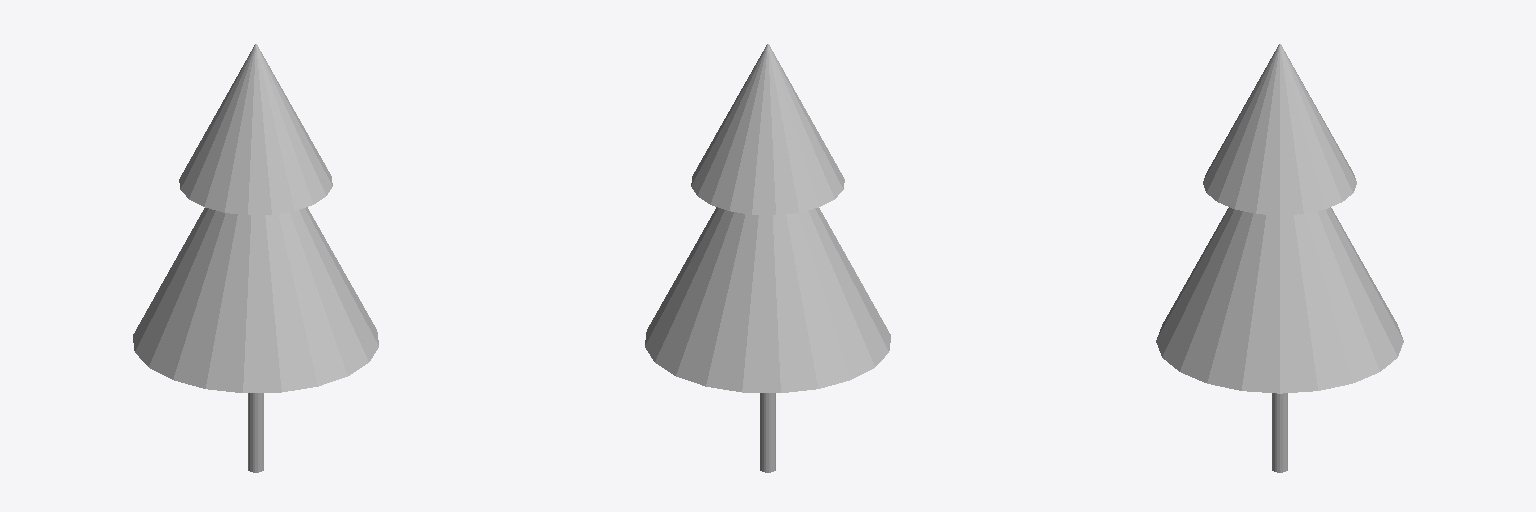
Rendered from Tree.obj.
3 renders of one model, left to right at view 1: azimuth 30°, elevation 25°; view 2: azimuth 150°, elevation 25°; view 3: azimuth 270°, elevation 25°, orthographic.
Visible parts, largest first — view 1: pCone2, pCone1, pCylinder1; view 2: pCone2, pCone1, pCylinder1; view 3: pCone2, pCone1, pCylinder1.
Part boxes in pixels (x1,y1,x2,y2): pCone2: (133, 207, 378, 392); pCone1: (179, 44, 332, 214); pCylinder1: (248, 393, 263, 472); pCone2: (645, 207, 890, 392); pCone1: (691, 44, 844, 214); pCylinder1: (760, 393, 775, 472); pCone2: (1156, 207, 1403, 393); pCone1: (1203, 44, 1356, 215); pCylinder1: (1272, 393, 1287, 472).
Bounding box in the file's own units: 7.17 × 13.61 × 7.17.